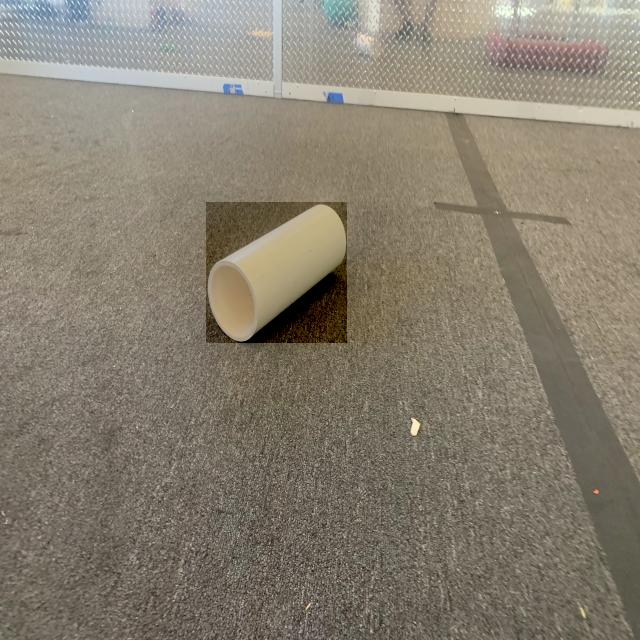Coral: (206, 202, 347, 343)
